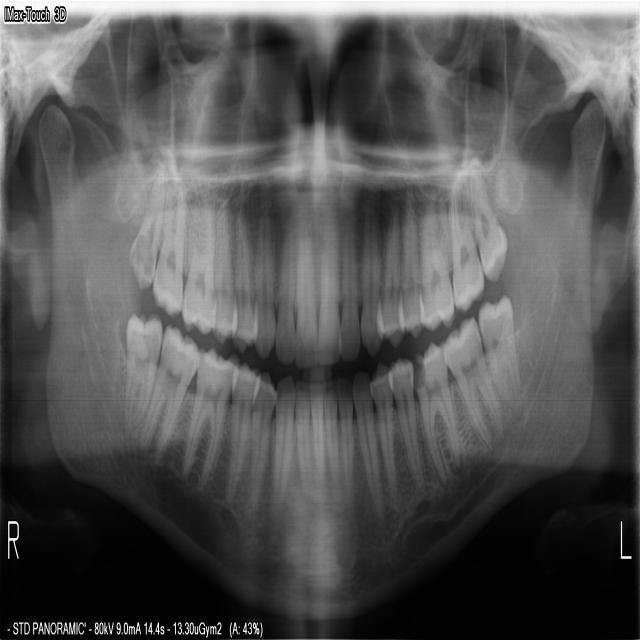LCD: (351, 365, 384, 524)
LCU: (360, 204, 384, 360)
LID: (336, 374, 354, 503), (324, 377, 342, 503)
LIU: (317, 198, 342, 366), (340, 211, 362, 365)
LMD: (446, 312, 504, 447), (414, 334, 460, 485), (475, 289, 523, 415)
LMU: (420, 185, 457, 337), (467, 152, 508, 284), (448, 169, 485, 315)
LPMD: (388, 351, 428, 493), (372, 358, 399, 506)
LPMU: (382, 201, 405, 351), (402, 186, 424, 342)
RCD: (270, 370, 292, 518)
RCU: (248, 187, 273, 363)
RID: (292, 377, 314, 511), (308, 380, 326, 497)
RIU: (293, 207, 317, 370), (272, 218, 293, 369)
RMD: (133, 320, 196, 469), (176, 340, 232, 494), (119, 307, 161, 436)
RMU: (122, 157, 166, 296), (179, 181, 212, 336), (150, 176, 186, 318)
RPMD: (239, 367, 272, 519), (222, 357, 252, 506)
RPMU: (227, 201, 252, 357), (209, 198, 232, 348)
